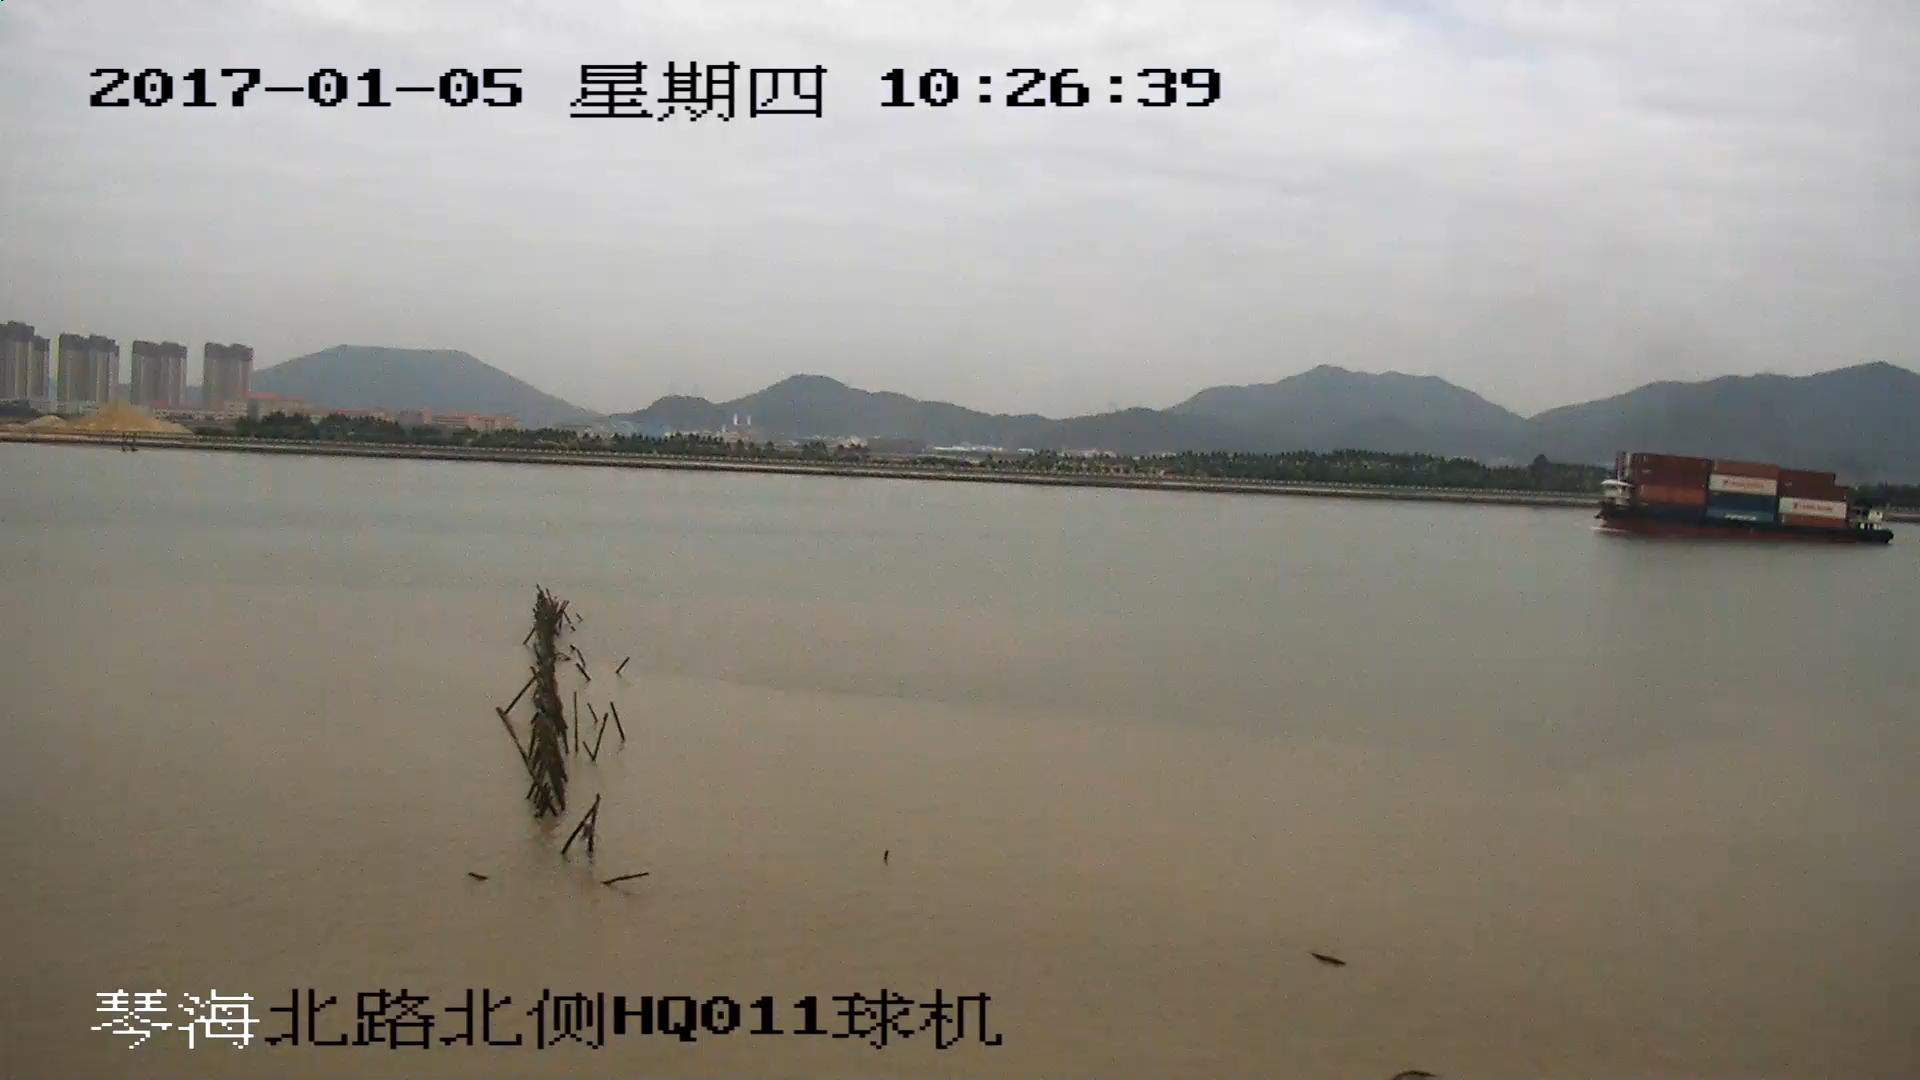Ship: (1600, 454, 1891, 541)
